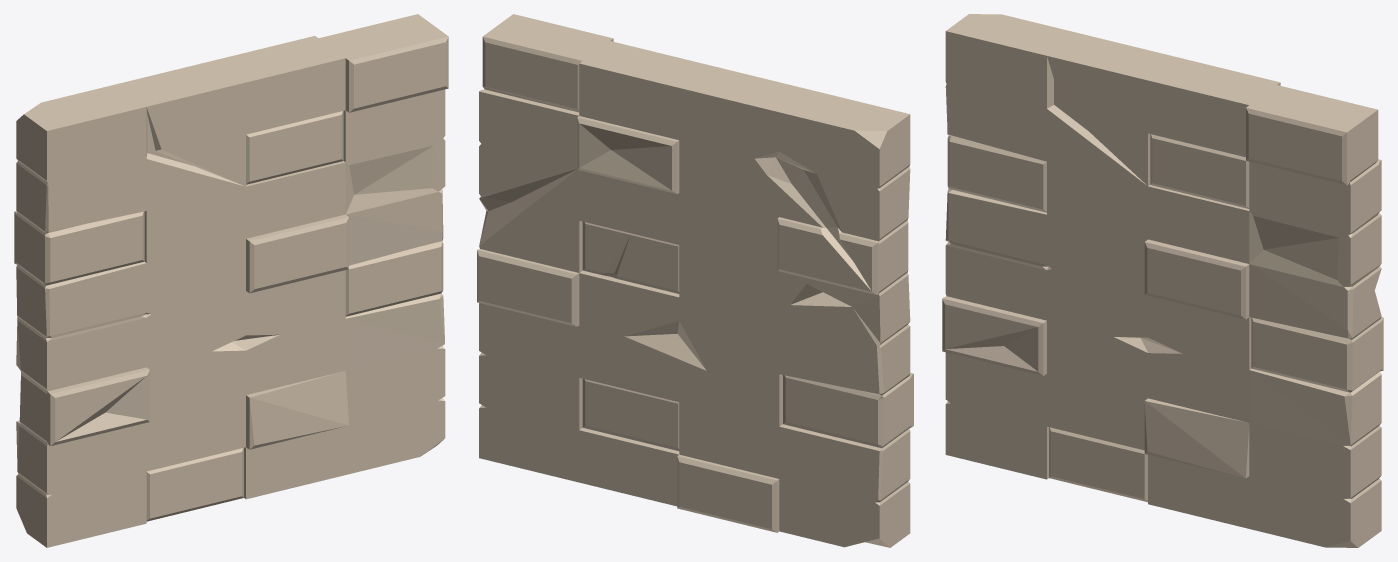
The model's file is Wall_003.fbx.
3 renders of one model, left to right at view 1: azimuth 30°, elevation 25°; view 2: azimuth 150°, elevation 25°; view 3: azimuth 330°, elevation 25°, orthographic.
Visible parts, largest first — view 1: Wall_003; view 2: Wall_003; view 3: Wall_003.
Part boxes in pixels (x1=…): Wall_003: x1=14, y1=14, x2=448, y2=547; Wall_003: x1=477, y1=14, x2=913, y2=547; Wall_003: x1=942, y1=14, x2=1383, y2=547.
Bounding box in the file's own units: 3 × 3 × 0.5073.
